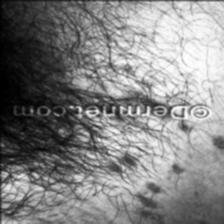Toxin: (90, 151, 138, 169), (135, 194, 162, 220)
